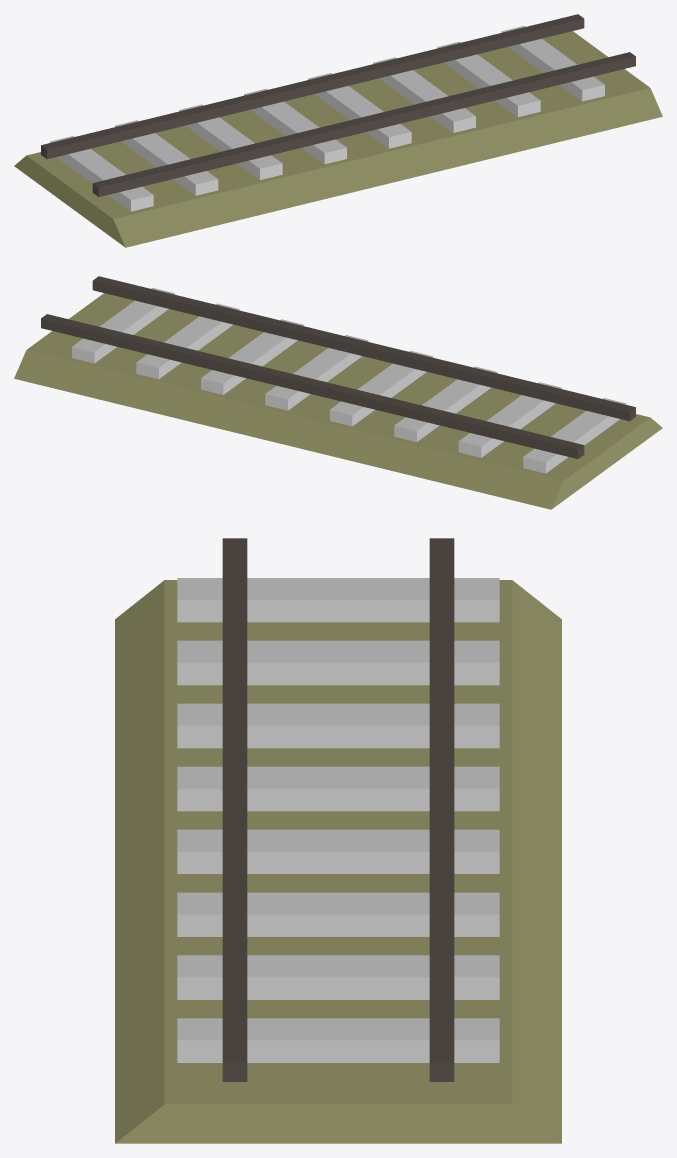
File: SM_Via_Recta10_v0_Hormigon_LOD1.fbx
The picture shows the model from 3 angles, top to bottom: view 1: azimuth 30°, elevation 25°; view 2: azimuth 150°, elevation 25°; view 3: azimuth 270°, elevation 25°; orthographic projection. The views are drawn at different scales.
Parts seen in each view (by area): view 1: SM_via_trazado_v0_LOD1; view 2: SM_via_trazado_v0_LOD1; view 3: SM_via_trazado_v0_LOD1.
Part boxes in pixels (x1,y1,x2,y2): SM_via_trazado_v0_LOD1: (14, 14, 662, 247); SM_via_trazado_v0_LOD1: (14, 276, 662, 509); SM_via_trazado_v0_LOD1: (115, 538, 561, 1143).
Bounding box in the file's own units: 10 × 0.72 × 3.6.
